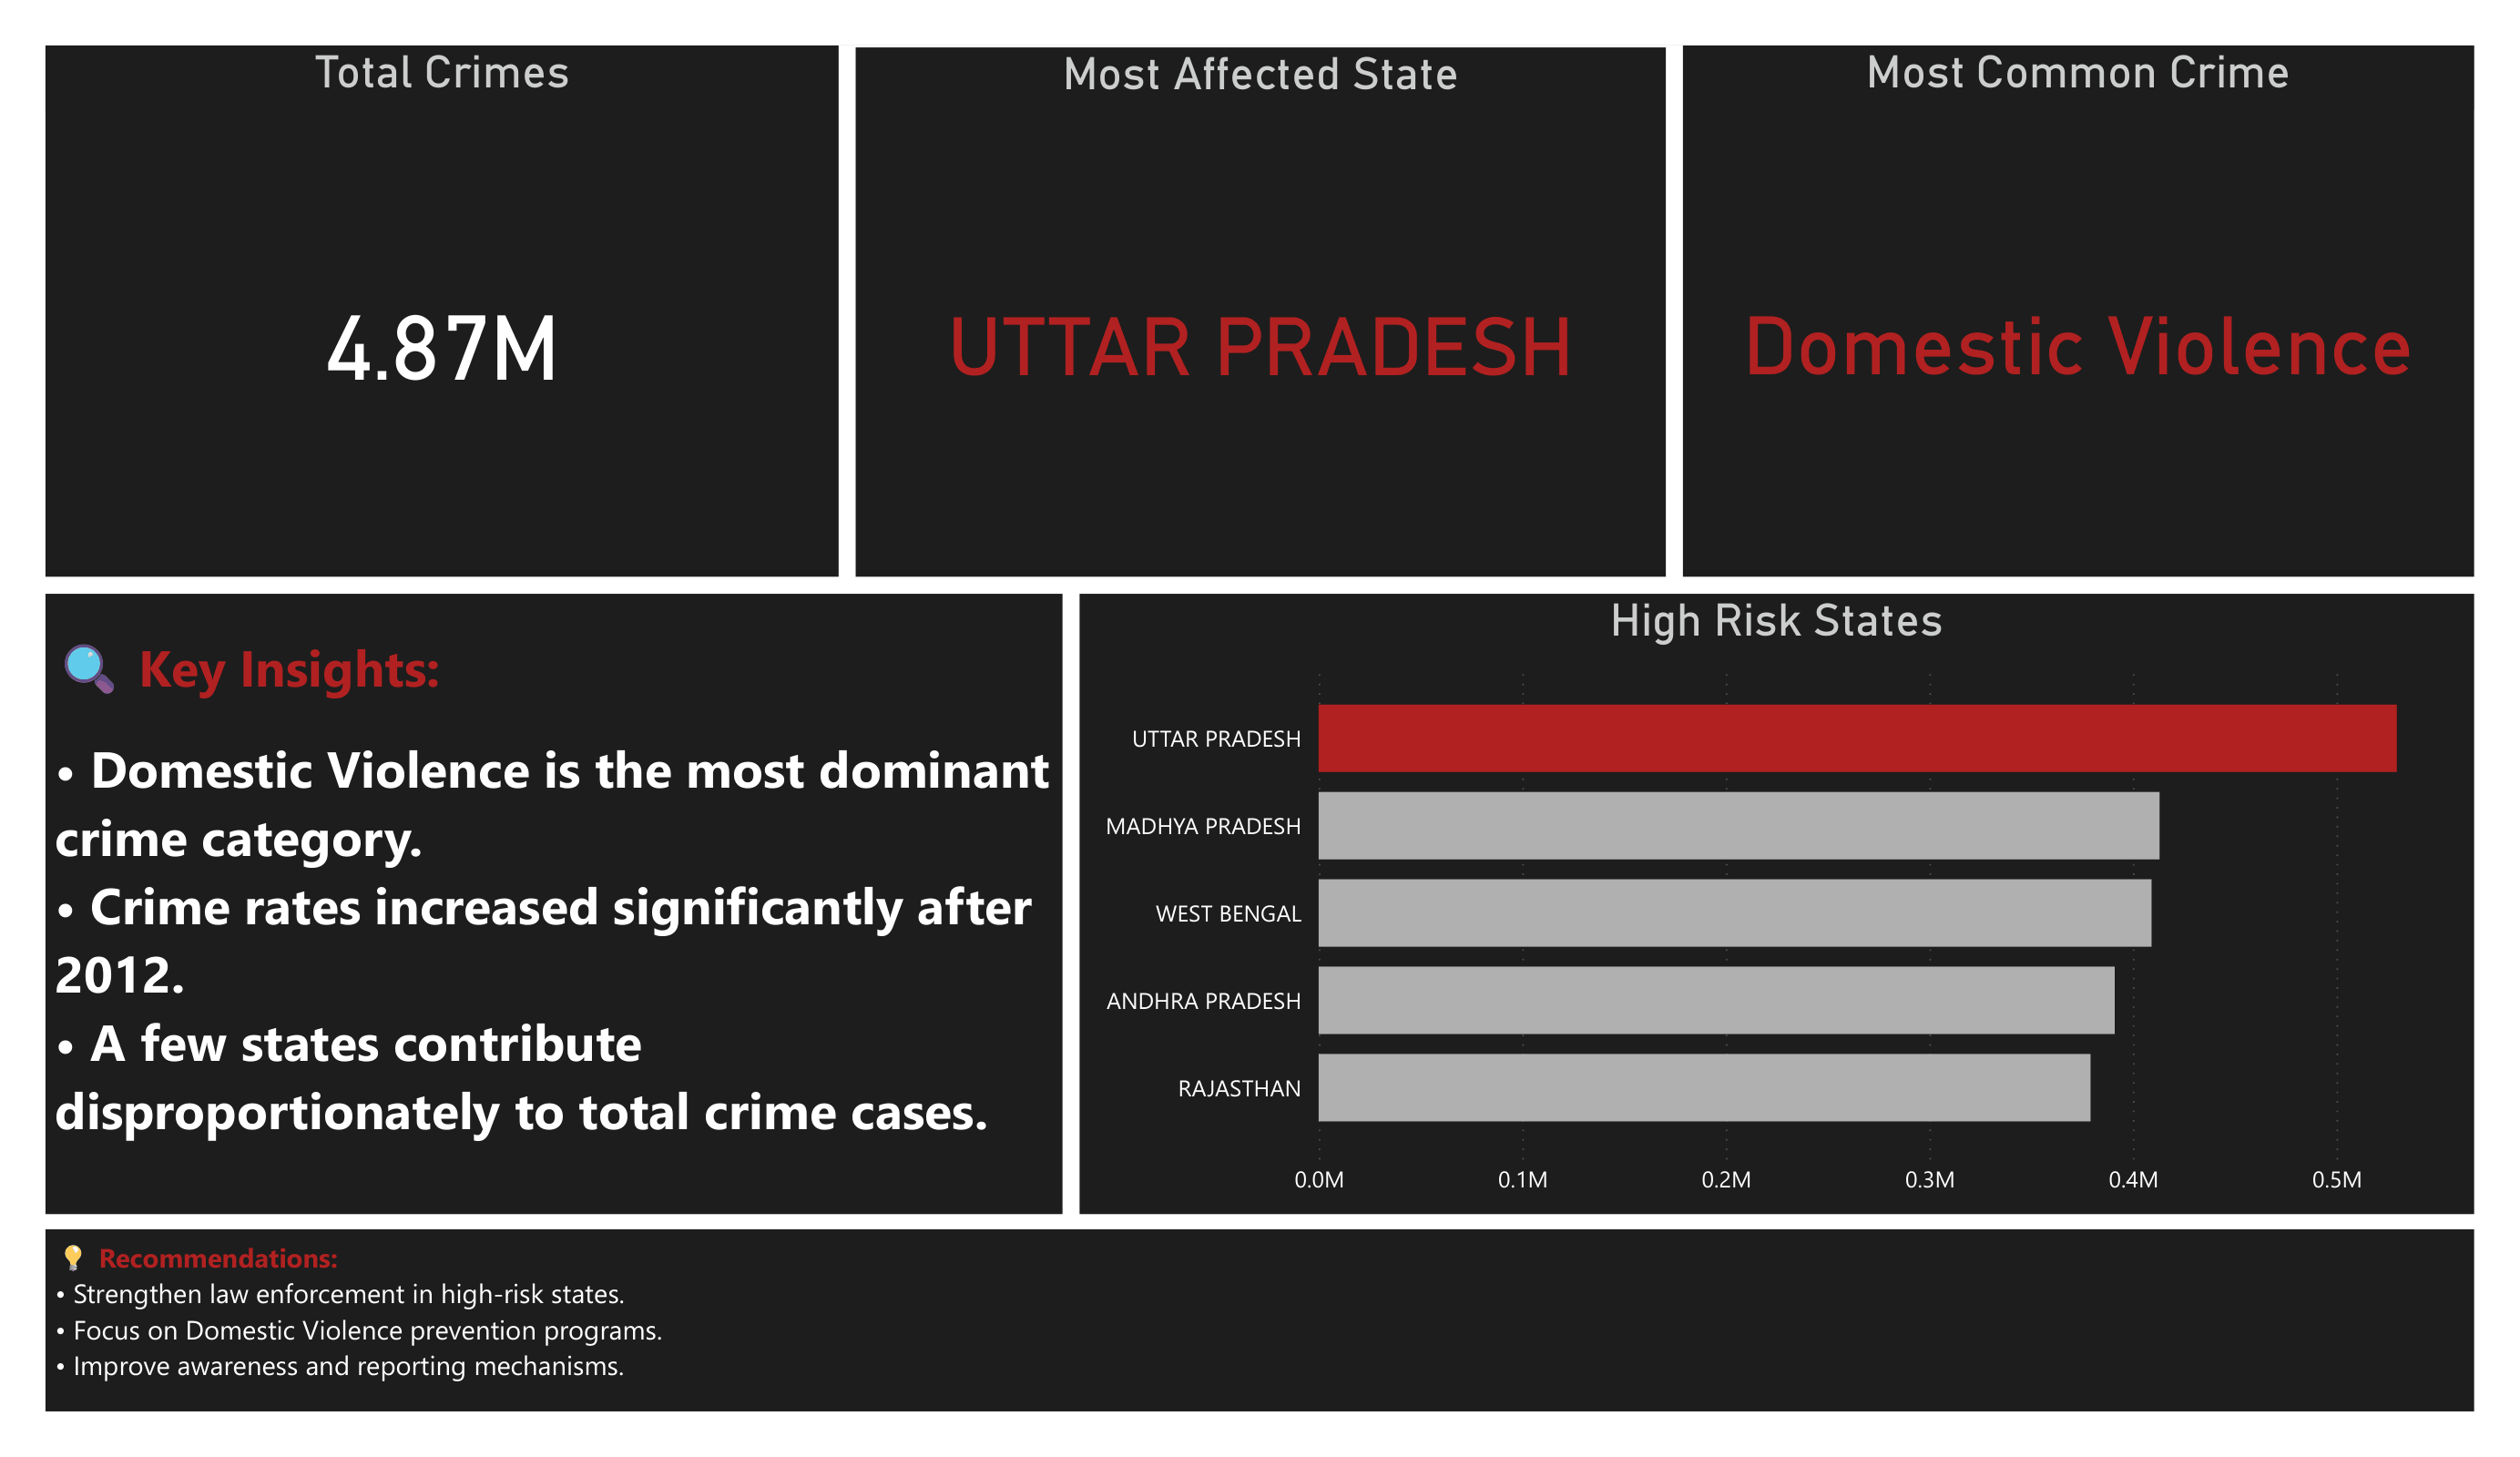

The dashboard page shown, as its layout file describes it:
{"tool":"powerbi","page":{"name":"Insights & Recommendations","canvas":[1280,720],"ordinal":3},"visuals":[{"type":"card","title":"Total Crimes","fields":{"Values":["Sum(CrimesOnWomenData.Cases)"]},"box":[0,0,418,279.9],"z":0},{"type":"card","title":"Most Affected State","fields":{"Values":["CrimesOnWomenData.Top State"]},"box":[427.3,1.2,426.7,278.6],"z":1000},{"type":"card","title":"Most Common Crime","fields":{"Values":["CrimesOnWomenData.Top Crime"]},"box":[863.3,0,416.7,279.9],"z":2000},{"type":"textbox","box":[0,288.6,536.1,327.2],"z":3000},{"type":"clusteredBarChart","title":"High Risk States","fields":{"Category":["CrimesOnWomenData.State"],"Y":["Sum(CrimesOnWomenData.Cases)"]},"box":[544.9,288.6,735.2,327.2],"z":4000},{"type":"textbox","box":[0,624.5,1280,95.8],"z":5000}]}

Visuals, with their boxes on the page's 1280x720 design canvas (x1, y1, x2, y2). These are canvas units, not pixel positions in the 2520x1457 screenshot, which may show the page scaled, cropped or inside an application window:
"Total Crimes" card: (x1=0, y1=0, x2=418, y2=280)
"Most Affected State" card: (x1=427, y1=1, x2=854, y2=280)
"Most Common Crime" card: (x1=863, y1=0, x2=1280, y2=280)
textbox: (x1=0, y1=289, x2=536, y2=616)
"High Risk States" clusteredBarChart: (x1=545, y1=289, x2=1280, y2=616)
textbox: (x1=0, y1=624, x2=1280, y2=720)
